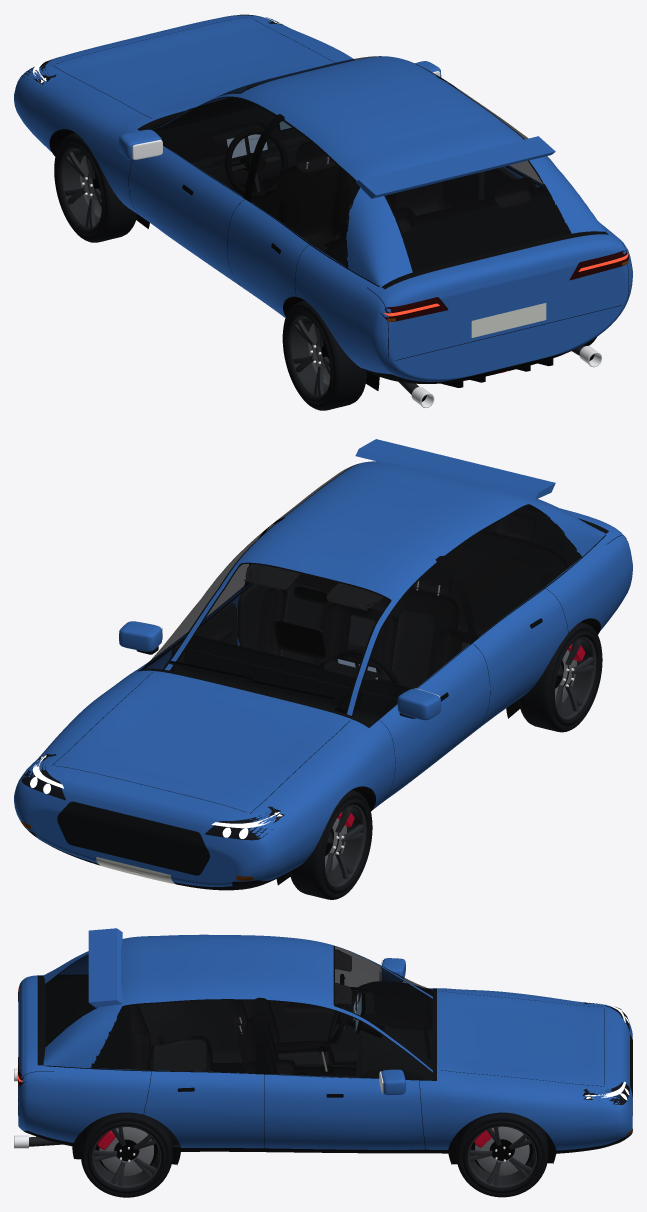
Rendered from car_pulse.glb.
3 views of the same model, one above another, from view 1: azimuth 30°, elevation 25°; view 2: azimuth 150°, elevation 25°; view 3: azimuth 270°, elevation 25° (orthographic). The views are drawn at different scales.
Visible parts, largest first — view 1: Body, Glass, Interior, Wheel_RL, Wheel_FL, SteeringWheel; view 2: Body, Glass, Interior, Wheel_RL, Wheel_FL, Lights_Head, SteeringWheel; view 3: Body, Glass, Interior, Wheel_RR, Wheel_FR, SteeringWheel.
Part boxes in pixels (x1,y1,x2,y2): Body: (14, 14, 632, 407); Glass: (149, 56, 569, 271); Interior: (153, 82, 549, 300); Wheel_RL: (282, 300, 367, 410); Wheel_FL: (54, 133, 137, 242); SteeringWheel: (225, 128, 287, 198); Body: (14, 439, 632, 890); Glass: (143, 464, 580, 725); Interior: (164, 512, 566, 725); Wheel_RL: (518, 622, 602, 732); Wheel_FL: (289, 790, 372, 899); Lights_Head: (30, 755, 282, 838); SteeringWheel: (335, 649, 398, 713); Body: (14, 928, 632, 1165); Glass: (45, 946, 432, 1080); Interior: (107, 949, 432, 1147); Wheel_RR: (81, 1113, 172, 1197); Wheel_FR: (456, 1113, 548, 1197); SteeringWheel: (328, 991, 384, 1044).
Size of the model in its own units: 2.1 by 1.45 by 4.37.
